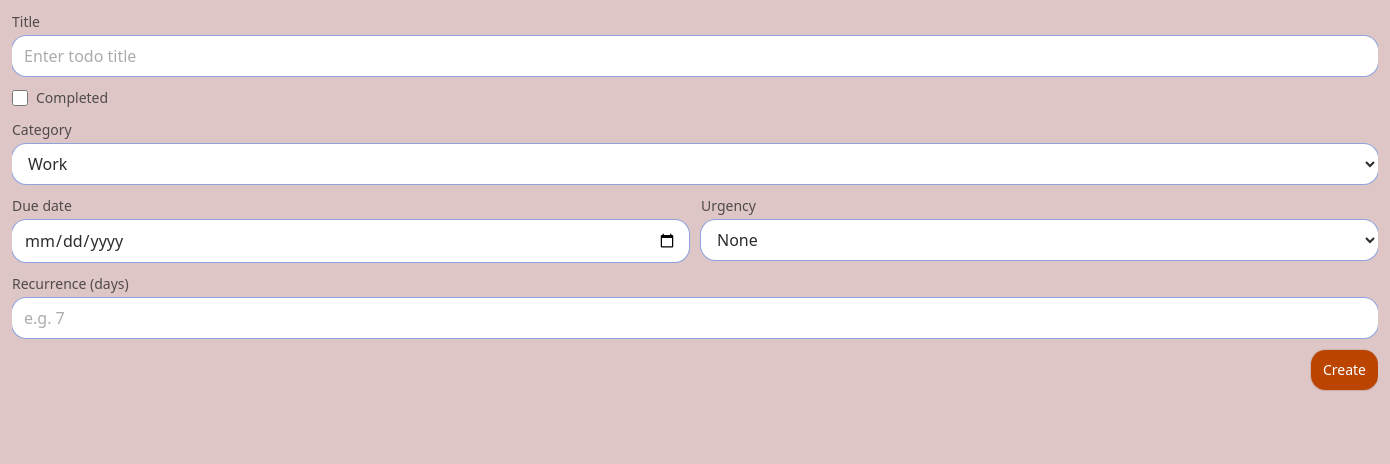
Test: TodoForm › shows validation error for short title
What coordinates should you click on to do the following:
click the button "Create"
I would click on:
 (1344, 370)
Its box is [1311,350,1378,390].
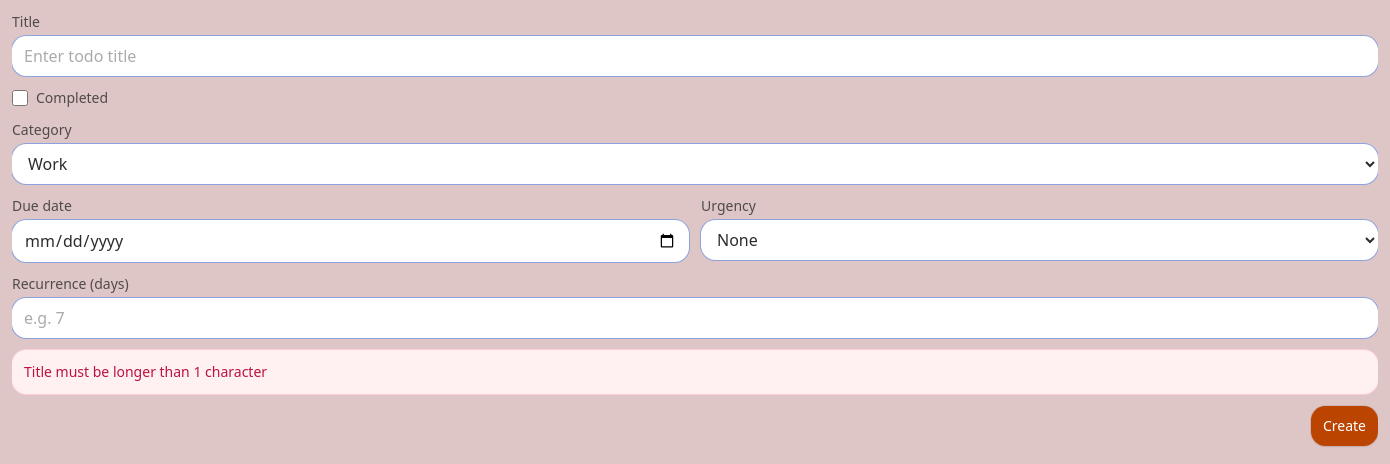
Expected: the text "Title must be longer than 1 character" is shown, [12,350,1378,394]
